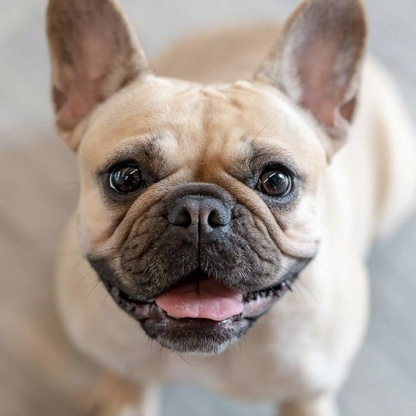bulldog: (38, 3, 376, 404)
